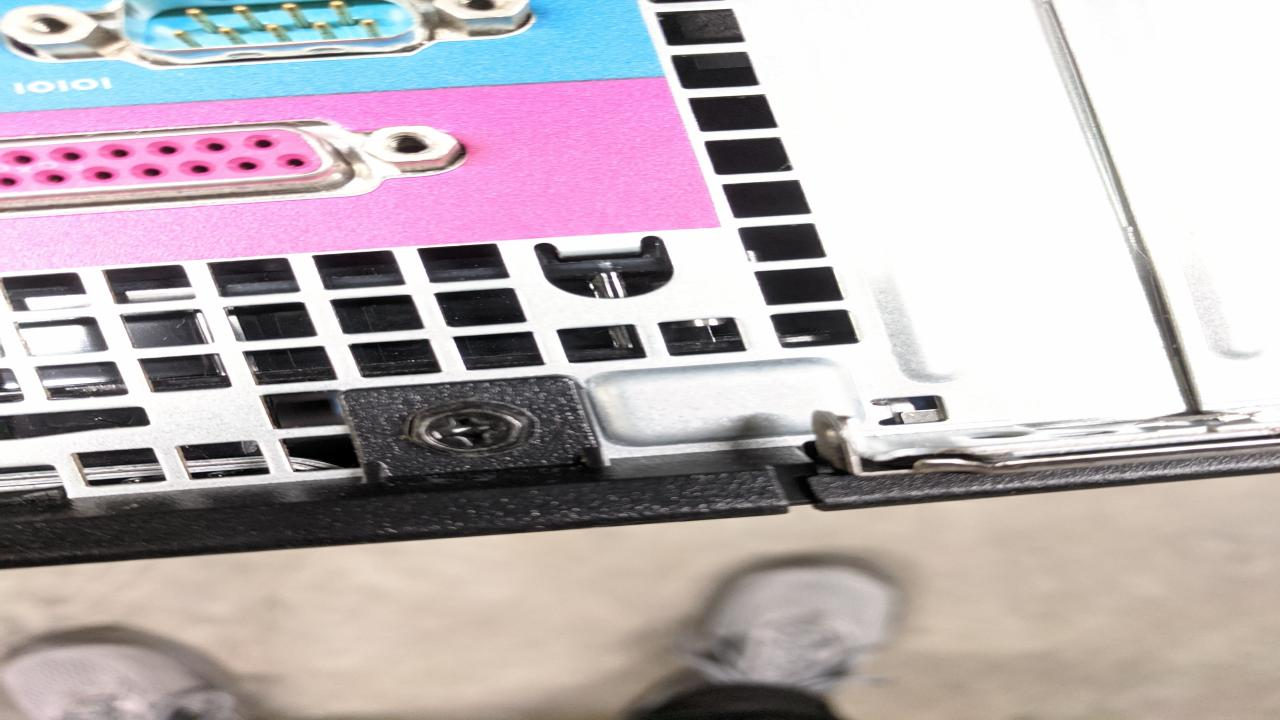CRS: (406, 400, 542, 454)
